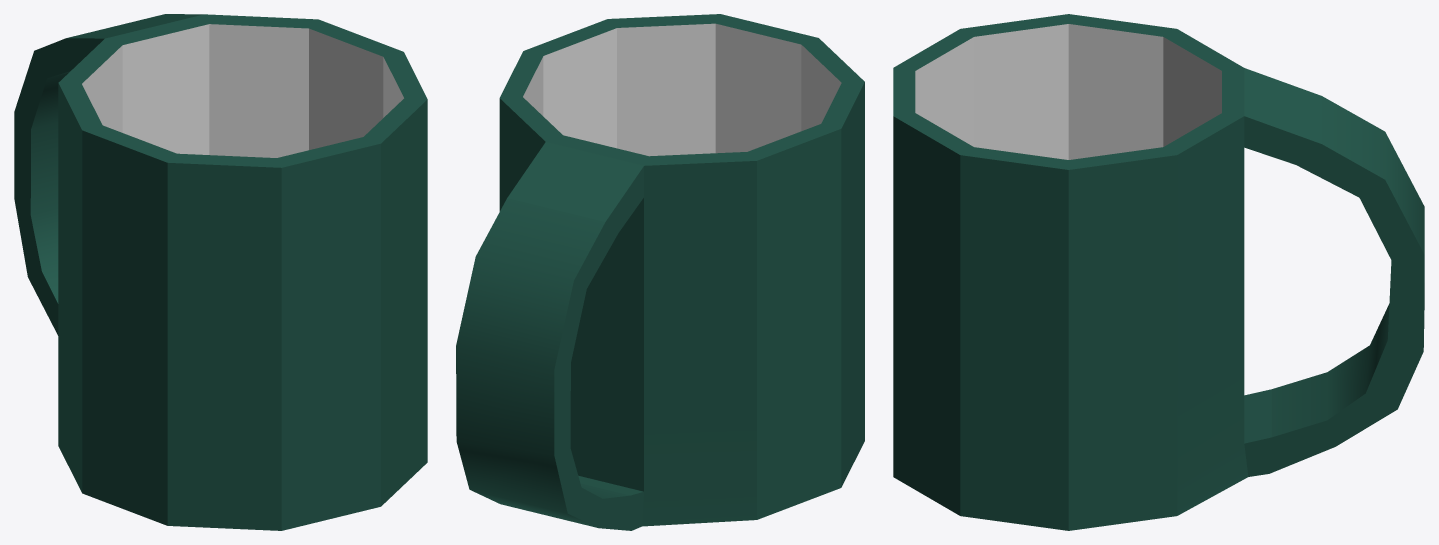
File: Mug.fbx
The picture shows the model from 3 angles, left to right: view 1: azimuth 30°, elevation 25°; view 2: azimuth 150°, elevation 25°; view 3: azimuth 270°, elevation 25°; orthographic projection.
Visible parts, largest first — view 1: pCylinder1; view 2: pCylinder1; view 3: pCylinder1.
Part boxes in pixels (x1,y1,x2,y2): pCylinder1: (14,14,427,530); pCylinder1: (456,14,864,530); pCylinder1: (893,14,1424,530).
Size of the model in its own units: 0.1 by 0.1079 by 0.144.
